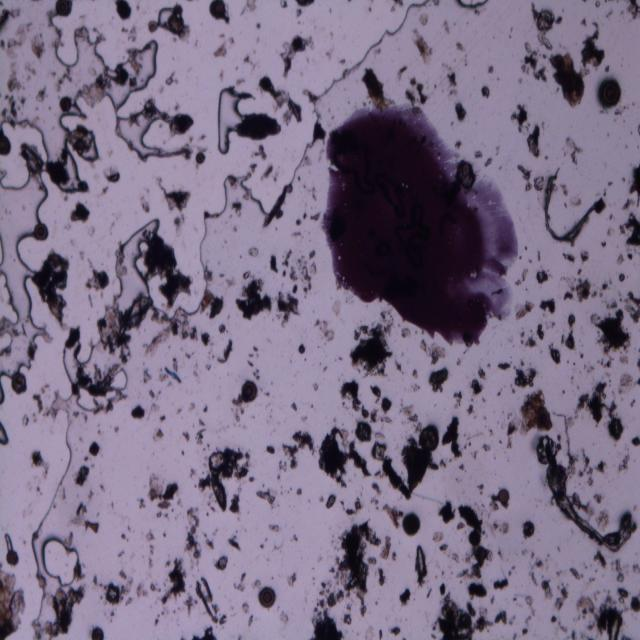Air bubble: (0, 182, 57, 381), (0, 110, 53, 192), (114, 104, 168, 162), (32, 528, 81, 588), (217, 84, 245, 155), (75, 387, 123, 414), (110, 368, 130, 393), (2, 530, 16, 553), (0, 422, 10, 446), (458, 0, 488, 7)
Background material: (327, 520, 381, 617), (370, 441, 439, 502), (319, 426, 376, 489), (198, 448, 252, 514), (141, 237, 194, 304), (94, 298, 149, 360), (456, 499, 496, 582), (436, 581, 492, 637), (34, 582, 88, 638), (506, 390, 556, 448), (34, 252, 71, 324), (351, 318, 395, 378), (573, 592, 627, 638), (267, 248, 317, 296), (587, 310, 631, 364), (75, 63, 128, 107), (22, 147, 72, 190), (260, 77, 304, 124), (573, 377, 619, 421), (149, 310, 197, 352), (236, 267, 272, 323), (549, 56, 589, 106), (67, 363, 119, 399), (194, 576, 228, 627), (261, 186, 297, 233), (0, 568, 24, 638), (278, 431, 316, 473), (280, 34, 314, 79), (3, 16, 40, 57), (529, 1, 557, 53), (580, 20, 608, 70), (161, 557, 188, 607), (183, 505, 205, 566), (148, 470, 179, 513), (0, 70, 23, 127), (307, 604, 345, 637), (363, 68, 392, 110), (98, 572, 134, 605), (520, 44, 549, 84), (238, 115, 282, 140), (411, 541, 433, 591), (364, 384, 390, 425), (442, 413, 464, 460), (276, 283, 300, 325), (560, 276, 596, 304), (165, 5, 191, 42), (517, 163, 545, 196), (161, 184, 192, 212), (542, 579, 568, 612), (416, 337, 446, 365), (506, 102, 532, 134), (411, 29, 434, 65), (340, 376, 362, 413), (67, 126, 93, 156), (405, 73, 427, 108), (427, 364, 451, 396), (525, 121, 543, 162), (619, 210, 640, 245), (425, 523, 451, 551), (85, 264, 111, 292), (526, 548, 544, 588), (379, 503, 404, 530), (312, 318, 336, 345), (167, 111, 196, 133), (469, 366, 488, 399), (134, 185, 154, 216), (202, 291, 224, 319), (563, 136, 583, 166), (313, 577, 331, 610), (436, 498, 458, 525), (402, 404, 422, 433), (516, 366, 540, 390), (212, 337, 234, 363), (53, 64, 72, 94), (623, 290, 640, 323), (629, 160, 640, 210), (25, 391, 47, 416), (354, 417, 374, 444), (255, 487, 278, 510), (545, 610, 567, 634), (66, 325, 84, 352), (70, 202, 92, 224), (19, 55, 39, 79), (566, 312, 578, 352), (31, 451, 50, 476), (212, 38, 234, 59), (380, 534, 396, 562), (611, 556, 627, 584), (538, 296, 558, 318), (464, 582, 488, 600), (30, 35, 46, 62), (124, 48, 142, 72), (231, 393, 247, 420), (614, 99, 636, 118), (191, 624, 218, 639), (342, 498, 363, 517), (526, 326, 544, 348), (235, 0, 258, 17), (145, 532, 155, 570), (258, 163, 276, 183), (454, 100, 469, 124), (491, 574, 509, 593), (0, 9, 13, 35), (194, 418, 206, 446), (546, 345, 562, 366), (129, 402, 147, 420), (516, 300, 535, 317), (623, 1, 640, 20), (599, 291, 618, 308), (234, 572, 248, 595), (534, 264, 550, 284), (312, 125, 328, 145), (75, 466, 91, 486), (374, 566, 389, 586), (398, 586, 413, 606), (524, 591, 536, 616), (562, 248, 578, 266), (244, 242, 260, 260), (74, 501, 90, 519), (518, 263, 530, 286), (86, 440, 102, 457), (448, 390, 464, 407), (493, 610, 510, 626), (278, 610, 293, 628), (216, 553, 230, 572), (287, 571, 301, 590), (245, 52, 257, 74), (136, 580, 149, 600), (255, 142, 268, 162), (134, 495, 150, 511), (325, 493, 340, 510), (82, 519, 100, 533), (595, 552, 609, 570), (524, 520, 536, 540), (226, 538, 242, 553), (395, 60, 407, 80), (163, 72, 179, 87), (203, 529, 215, 548), (106, 167, 120, 183), (32, 87, 46, 103), (615, 582, 629, 598), (446, 73, 459, 90), (328, 301, 341, 318), (124, 24, 136, 42), (497, 359, 510, 375), (200, 331, 212, 348), (74, 562, 85, 580), (603, 179, 614, 197), (570, 567, 584, 581), (341, 610, 355, 624), (154, 611, 167, 626), (184, 596, 196, 612), (416, 10, 428, 26), (182, 427, 192, 446), (175, 213, 185, 232), (305, 211, 322, 222), (440, 17, 451, 34), (243, 614, 256, 628), (496, 523, 508, 538), (154, 428, 166, 443), (630, 594, 640, 612), (141, 368, 153, 383), (546, 319, 558, 334), (232, 198, 243, 214), (252, 575, 262, 592), (390, 0, 403, 13), (248, 344, 260, 358), (620, 199, 632, 213), (579, 247, 591, 261), (146, 388, 161, 399), (248, 158, 257, 176), (217, 64, 226, 82), (365, 624, 375, 640), (615, 250, 625, 266), (18, 411, 30, 424), (480, 84, 491, 98), (106, 608, 117, 622), (59, 484, 67, 502), (390, 624, 402, 636), (106, 400, 115, 416), (187, 399, 198, 412), (241, 600, 251, 614), (206, 265, 214, 282), (510, 561, 519, 576), (297, 343, 306, 358), (576, 15, 588, 26), (599, 279, 611, 290), (562, 187, 572, 200), (88, 224, 96, 240), (191, 362, 199, 378), (307, 188, 316, 202), (455, 460, 466, 471), (480, 440, 491, 451), (370, 497, 380, 509), (235, 76, 247, 86), (187, 468, 197, 480), (463, 54, 471, 69), (293, 0, 316, 5), (226, 274, 234, 288), (252, 367, 260, 381), (466, 403, 474, 417), (442, 62, 452, 73), (216, 324, 226, 335), (253, 20, 264, 30), (269, 524, 279, 535), (606, 7, 616, 18), (629, 564, 640, 574), (227, 175, 237, 186), (149, 582, 158, 594), (519, 330, 525, 348), (268, 443, 277, 455), (67, 531, 74, 546), (338, 55, 346, 68), (476, 482, 484, 495), (411, 383, 421, 393), (626, 252, 636, 262), (606, 223, 613, 236), (120, 534, 129, 544), (554, 16, 564, 25), (80, 183, 88, 194), (516, 356, 524, 367), (175, 407, 183, 418), (634, 122, 640, 136), (456, 42, 464, 52), (583, 366, 593, 374), (521, 626, 529, 636), (290, 401, 298, 411), (247, 475, 257, 483), (496, 548, 504, 558), (412, 367, 418, 380), (296, 486, 303, 497), (617, 273, 626, 281), (279, 0, 287, 9), (431, 0, 443, 6), (508, 27, 514, 38), (158, 371, 164, 382), (472, 448, 478, 459), (294, 216, 300, 227), (247, 360, 255, 368), (488, 594, 496, 602), (160, 414, 168, 422), (312, 382, 318, 392), (433, 81, 439, 91), (156, 512, 164, 519), (113, 426, 121, 433), (318, 495, 325, 503), (378, 629, 383, 640), (204, 403, 209, 414), (608, 213, 614, 222), (576, 199, 582, 208), (525, 615, 531, 624), (512, 630, 517, 640), (92, 574, 97, 584), (510, 614, 515, 624), (594, 0, 601, 7), (560, 388, 566, 396), (292, 534, 298, 542), (510, 386, 516, 394), (296, 10, 304, 16), (205, 362, 211, 370), (536, 250, 540, 261), (495, 390, 501, 397), (180, 449, 186, 456), (543, 154, 549, 161), (264, 390, 270, 397), (302, 210, 307, 218), (488, 66, 494, 72), (600, 242, 606, 248), (513, 598, 519, 604), (579, 352, 584, 359), (120, 552, 124, 560), (456, 359, 461, 365), (604, 67, 610, 72), (486, 362, 490, 369), (276, 473, 280, 480), (523, 245, 528, 250), (301, 417, 306, 422), (622, 178, 626, 184), (162, 532, 166, 538), (578, 268, 582, 274), (261, 544, 265, 550), (221, 272, 225, 278), (528, 258, 532, 263), (519, 255, 523, 260), (573, 361, 576, 367), (605, 0, 609, 4)
Cellulose filter fibre: (544, 445, 640, 554), (543, 172, 599, 245)
Cotton: (164, 365, 182, 383)
Diatom: (600, 76, 622, 111), (419, 424, 439, 450), (402, 510, 422, 536), (258, 586, 276, 610), (11, 372, 29, 395), (242, 379, 258, 403), (209, 1, 228, 20), (609, 418, 623, 441), (116, 3, 132, 21), (34, 224, 50, 241), (56, 0, 72, 17), (60, 95, 74, 112), (0, 138, 13, 156), (90, 624, 104, 639), (6, 552, 20, 566), (498, 489, 509, 504), (196, 152, 206, 166), (148, 21, 157, 33)
Pen: (320, 104, 518, 346)
